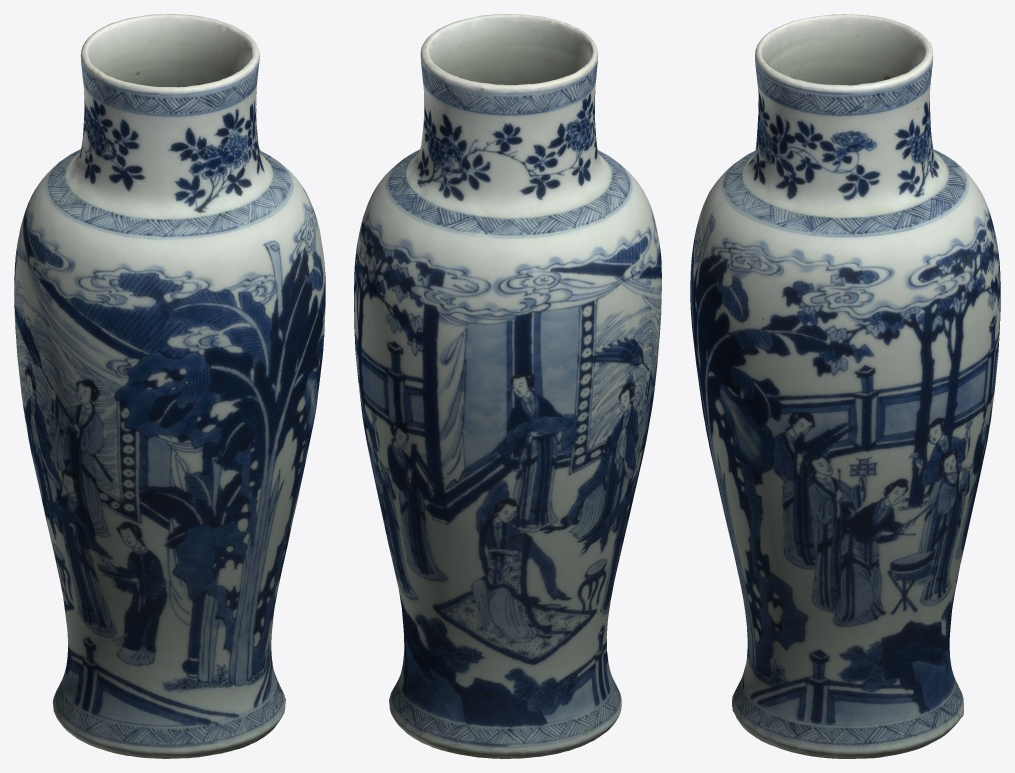
File: smithsonian-baluster-vase-room.glb
3 renders of one model, left to right at view 1: azimuth 30°, elevation 25°; view 2: azimuth 150°, elevation 25°; view 3: azimuth 270°, elevation 25°, orthographic.
Bounding box in the file's own units: 0.1708 × 0.4053 × 0.1718.
Materials: 1 (1 with a texture image).
